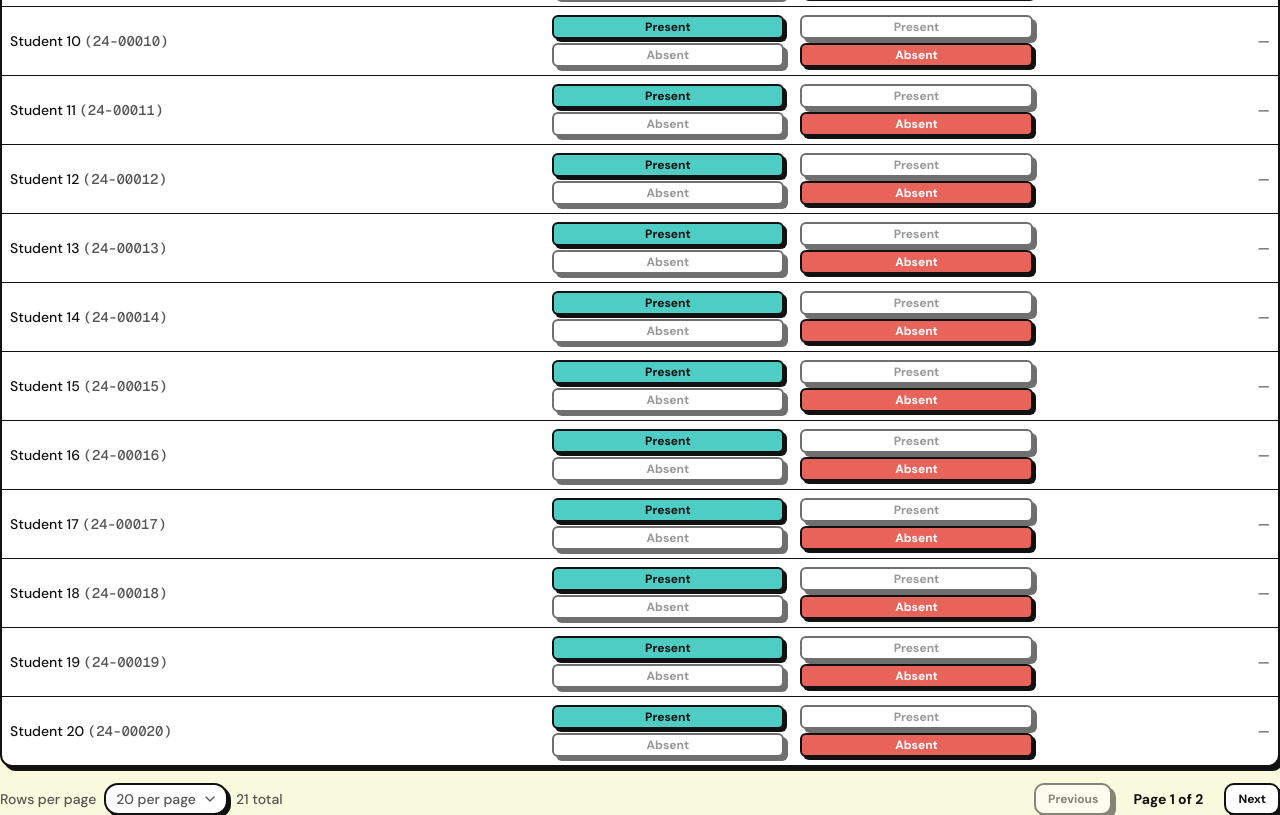
Test: AttendanceGrid pagination (Issue #221) › defaults to 20 rows per page and pages to the remainder
The image size is (1280, 815).
(page scrolled)
expect the text "Student 20" is shown: met, box [10, 722, 84, 740]
expect the text "Student 21" is not shown: met
Click the button with aria-label "Next page".
click(1252, 799)  # box [1224, 783, 1279, 814]
(page scrolled)
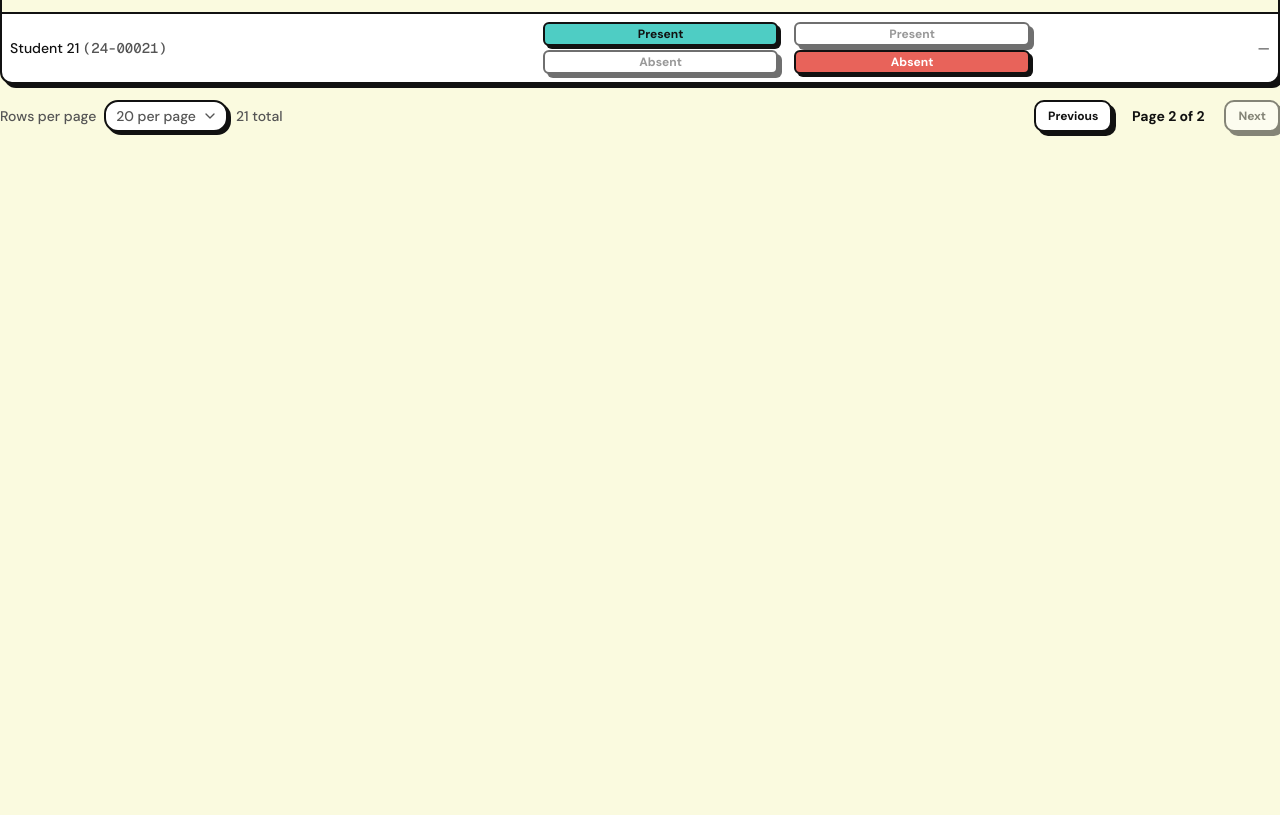
expect the text "Student 21" is shown: met, box [10, 39, 79, 57]
expect the text "Student 1" is gone: met
expect the text "Page 2 of 2" is shown: met, box [1132, 107, 1205, 125]
